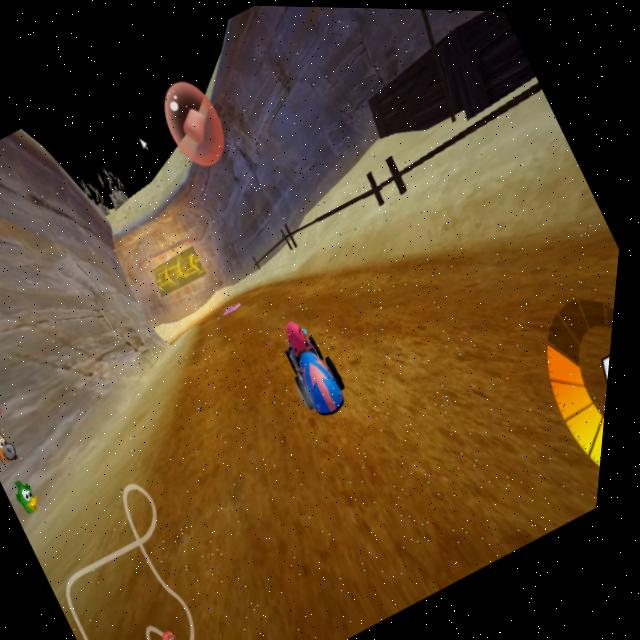obstacle: (224, 296, 256, 322)
player_kart: (270, 309, 361, 416)
track: (180, 270, 330, 372)
